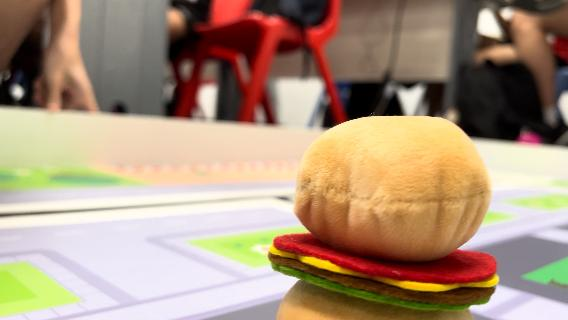burger: (266, 110, 500, 320)
